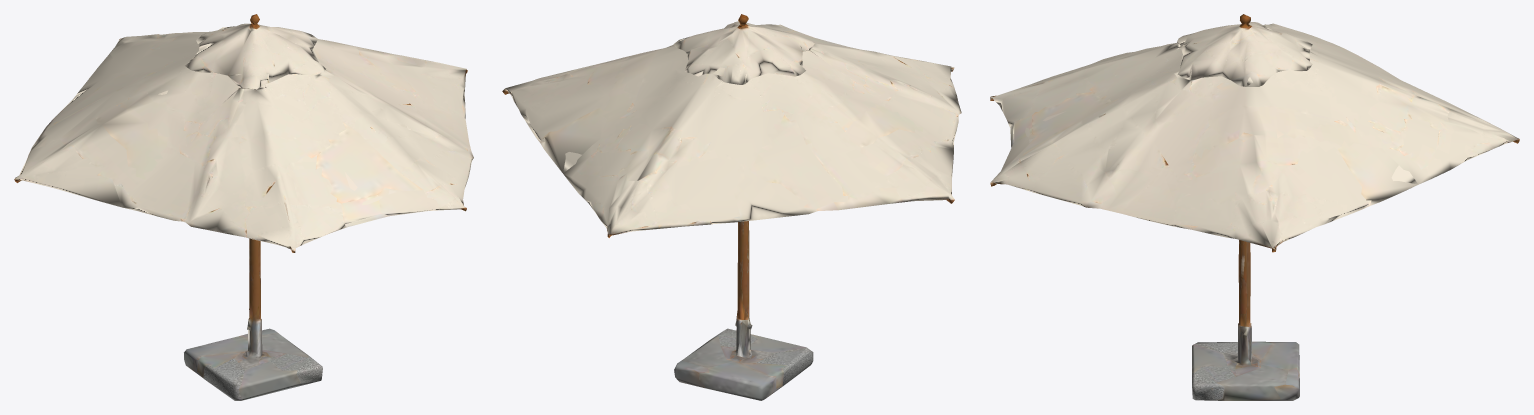
File: umbrella.glb
3 renders of one model, left to right at view 1: azimuth 30°, elevation 25°; view 2: azimuth 150°, elevation 25°; view 3: azimuth 270°, elevation 25°, orthographic. The views are drawn at different scales.
Size of the model in its own units: 1.9 by 1.44 by 1.88.
1 material, 1 textured.
